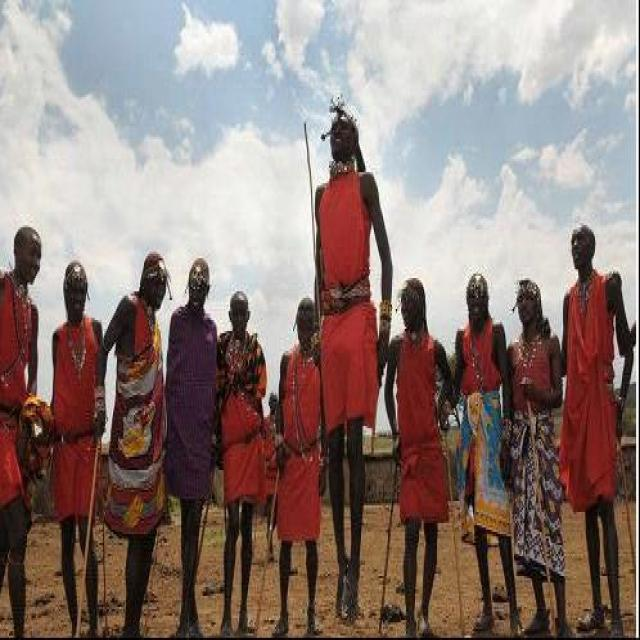non-fight: (304, 86, 391, 622), (558, 220, 631, 636), (382, 274, 452, 636), (44, 256, 105, 638), (104, 250, 163, 634), (163, 253, 216, 640), (213, 274, 269, 636), (269, 291, 325, 636), (0, 218, 41, 638)
